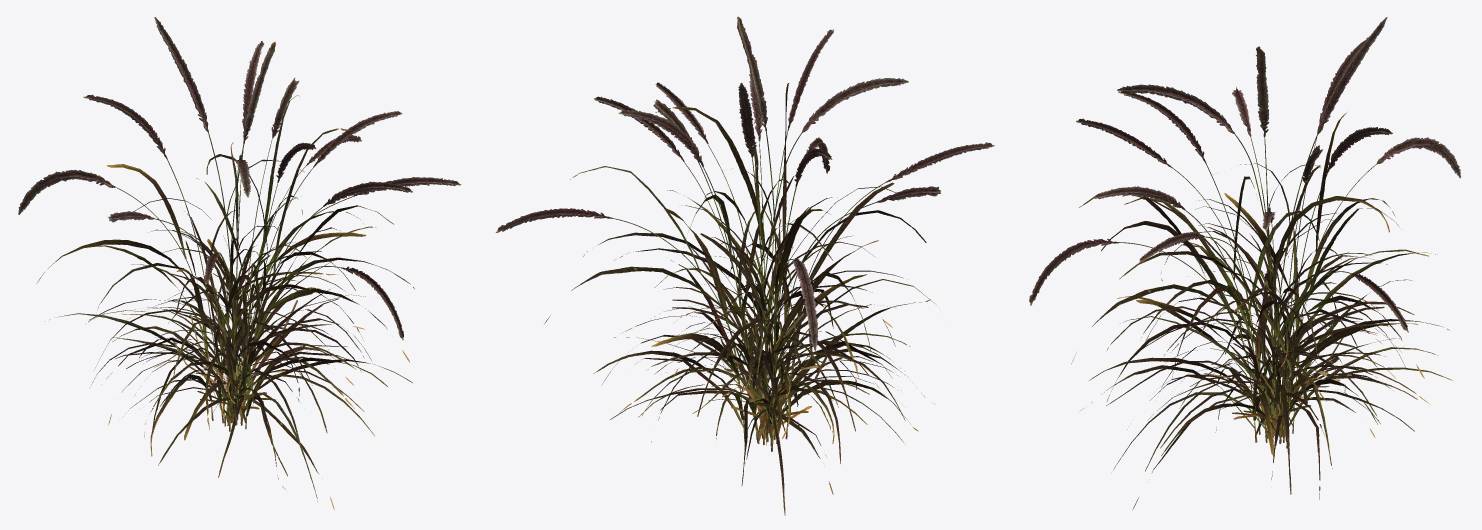
Rendered from fountain_grass.glb.
The picture shows the model from 3 angles, left to right: view 1: azimuth 30°, elevation 25°; view 2: azimuth 150°, elevation 25°; view 3: azimuth 270°, elevation 25°; orthographic projection. The views are drawn at different scales.
Visible parts, largest first — view 1: Megascans fountain_grass; view 2: Megascans fountain_grass; view 3: Megascans fountain_grass.
Boxes of the visible parts, x1,y1,x2,y2 form: Megascans fountain_grass: (18, 17, 461, 509); Megascans fountain_grass: (495, 16, 994, 515); Megascans fountain_grass: (1029, 17, 1460, 510).
Size of the model in its own units: 0.6822 by 0.8316 by 0.7071.
1 material, 1 textured.
